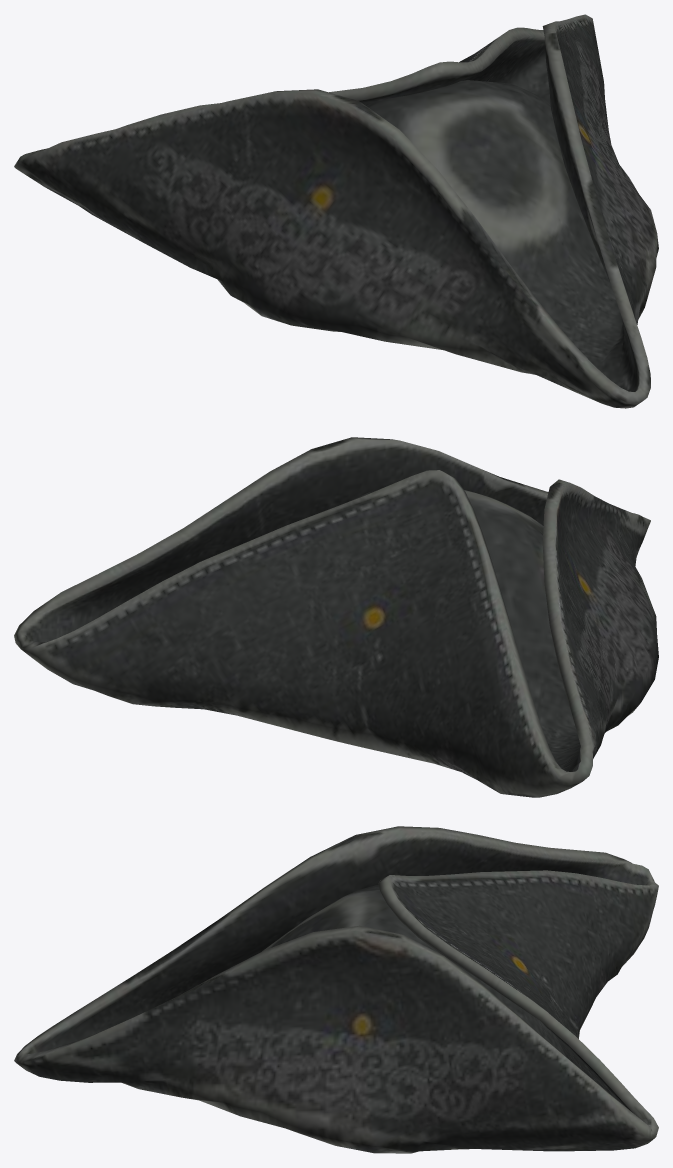
File: outfit_pirate_hat.glb
The picture shows the model from 3 angles, top to bottom: view 1: azimuth 30°, elevation 25°; view 2: azimuth 150°, elevation 25°; view 3: azimuth 270°, elevation 25°; orthographic projection. The views are drawn at different scales.
Parts seen in each view (by area): view 1: outfit_pirate_hat; view 2: outfit_pirate_hat; view 3: outfit_pirate_hat.
Boxes of the visible parts, x1=… form: outfit_pirate_hat: x1=14, y1=14, x2=658, y2=408; outfit_pirate_hat: x1=14, y1=437, x2=658, y2=797; outfit_pirate_hat: x1=14, y1=826, x2=658, y2=1153.
Size of the model in its own units: 0.8485 by 0.3 by 0.8781.
Materials: 1 (1 with a texture image).
